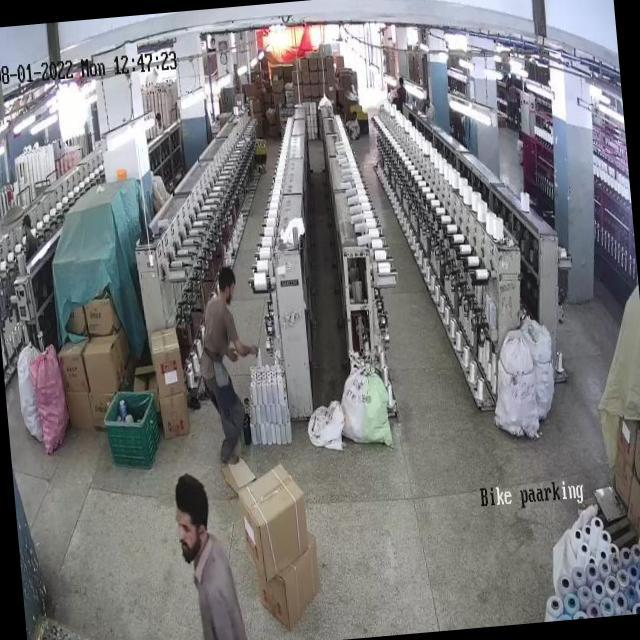person: (193, 260, 268, 464), (172, 471, 251, 640), (20, 212, 40, 258), (346, 110, 362, 141), (396, 76, 409, 106), (424, 94, 436, 118)
